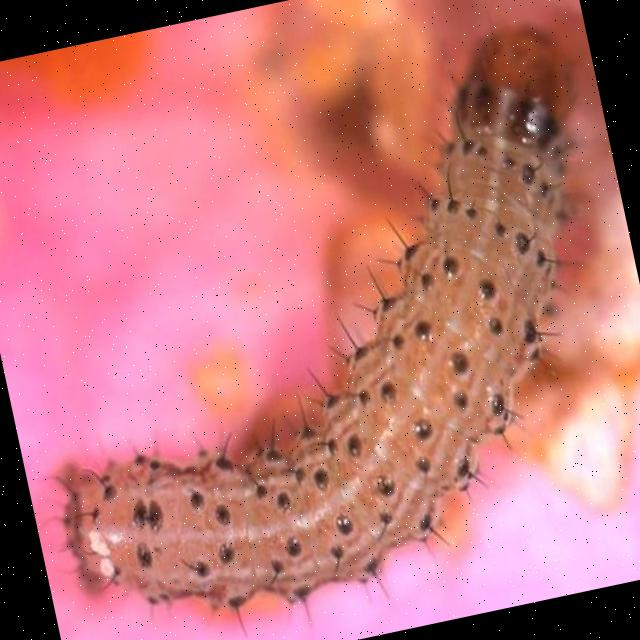worm: (1, 12, 640, 640)
